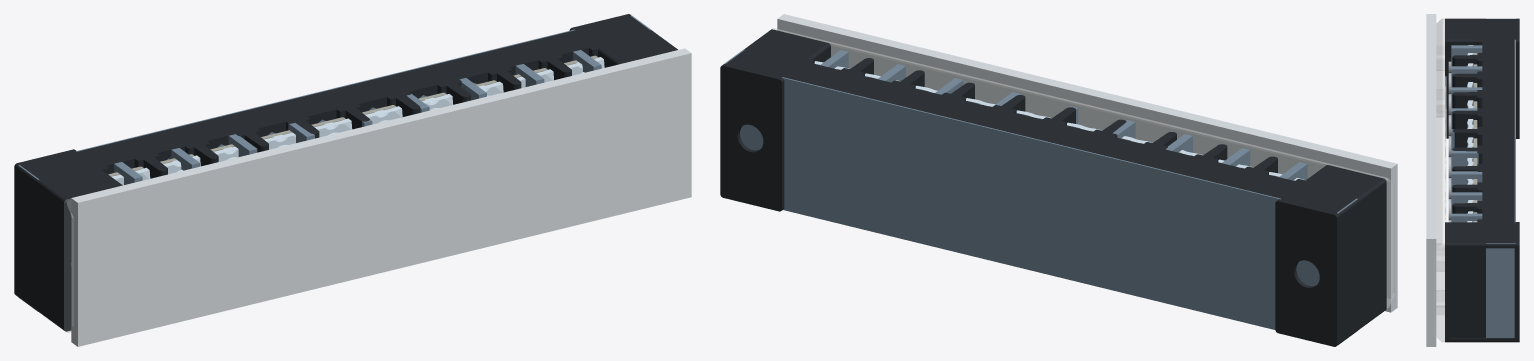
3 renders of one model, left to right at view 1: azimuth 30°, elevation 25°; view 2: azimuth 150°, elevation 25°; view 3: azimuth 270°, elevation 25°, orthographic. The views are drawn at different scales.
Parts seen in each view (by area): view 1: cover_001, factory_001, factory_062, insulation_000; view 2: insulation_000, factory_001, cover_001, factory_062; view 3: factory_001, cover_001, factory_062, insulation_000, insulation_029, insulation_025, insulation_033, insulation_005, insulation_037, insulation_009, insulation_013, insulation_017.
Part boxes in pixels (x1,y1,x2,y2): cover_001: (71,48,691,346); factory_001: (14,14,677,331); factory_062: (64,199,73,332); insulation_000: (18,15,651,311); insulation_000: (724,49,1357,344); factory_001: (720,29,1386,346); cover_001: (777,14,1397,312); factory_062: (772,28,1394,309); factory_001: (1445,18,1519,342); cover_001: (1426,14,1436,346); factory_062: (1433,18,1446,342); insulation_000: (1486,18,1515,337); insulation_029: (1451,171,1482,192); insulation_025: (1451,150,1478,171); insulation_033: (1451,192,1482,213); insulation_005: (1451,45,1482,66); insulation_037: (1451,213,1482,222); insulation_009: (1451,66,1482,87); insulation_013: (1451,87,1482,108); insulation_017: (1451,108,1477,129).
Bounding box in the file's own units: 0.1075 × 0.024 × 0.0187.
